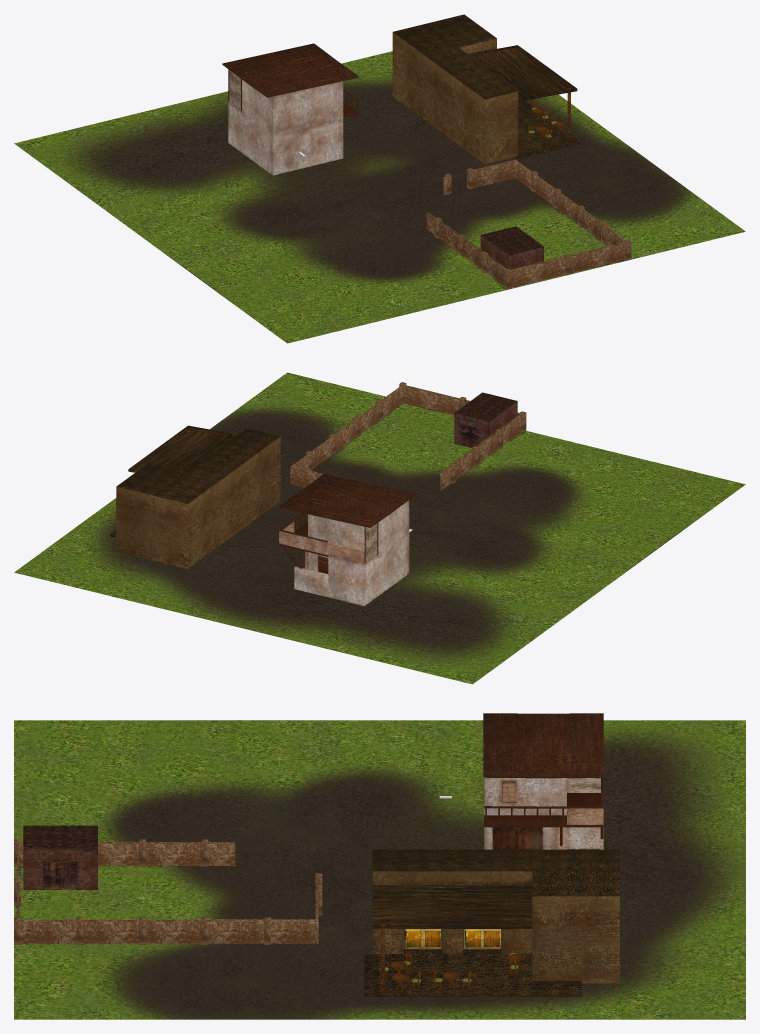
Rendered from Coronda_Plaza.glb.
The picture shows the model from 3 angles, top to bottom: view 1: azimuth 30°, elevation 25°; view 2: azimuth 150°, elevation 25°; view 3: azimuth 270°, elevation 25°; orthographic projection. The views are drawn at different scales.
Visible parts, largest first — view 1: floor2, house2_vangogh, house1, Cube.011, Cube.009; view 2: floor2, house2_vangogh, house1, Cube.011, Cube.009; view 3: floor2, house2_vangogh, house1, Cube.011, Cube.009, house1.001.
Part boxes in pixels (bbox=[...]): floor2: bbox=[14, 51, 745, 343]; house2_vangogh: bbox=[392, 14, 580, 164]; house1: bbox=[222, 43, 358, 175]; Cube.011: bbox=[426, 159, 631, 289]; Cube.009: bbox=[480, 226, 543, 269]; floor2: bbox=[14, 372, 745, 684]; house2_vangogh: bbox=[110, 425, 280, 568]; house1: bbox=[279, 474, 415, 606]; Cube.011: bbox=[290, 382, 526, 490]; Cube.009: bbox=[454, 392, 517, 447]; floor2: bbox=[14, 720, 745, 1019]; house2_vangogh: bbox=[364, 849, 619, 996]; house1: bbox=[483, 713, 603, 849]; Cube.011: bbox=[14, 839, 322, 944]; Cube.009: bbox=[23, 825, 97, 889]; house1.001: bbox=[492, 827, 542, 849].
Size of what is drawn, in the model's own units: 55.04 by 9.55 by 56.83.
7 materials, 7 textured.
